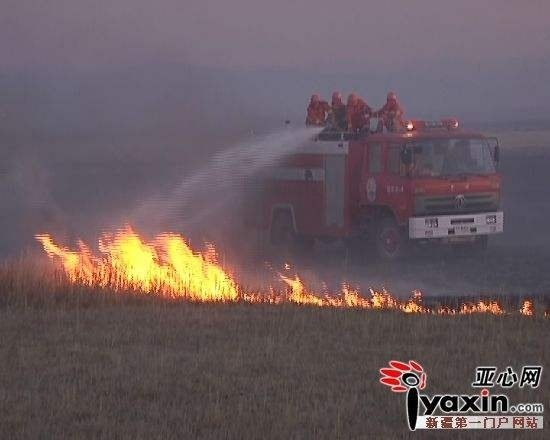fire: (25, 216, 405, 303)
